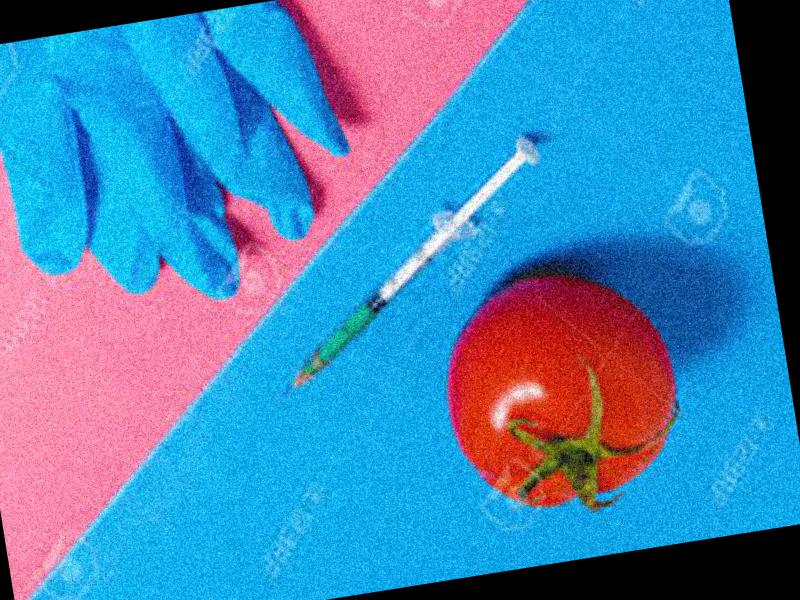Tomato: (430, 255, 687, 517)
